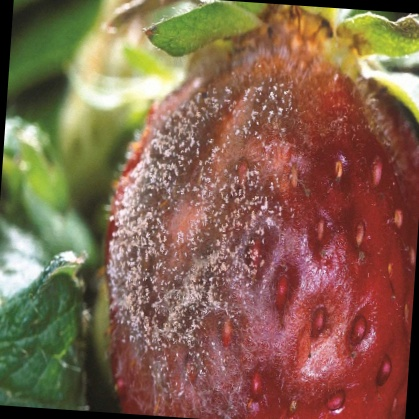Gray_Mold: (108, 14, 418, 418)
